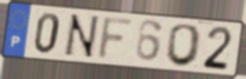0: (32, 11, 61, 56)
2: (203, 25, 234, 73)
6: (134, 18, 164, 67)
F: (95, 16, 137, 63)
N: (61, 13, 101, 61)
O: (164, 23, 204, 68)
